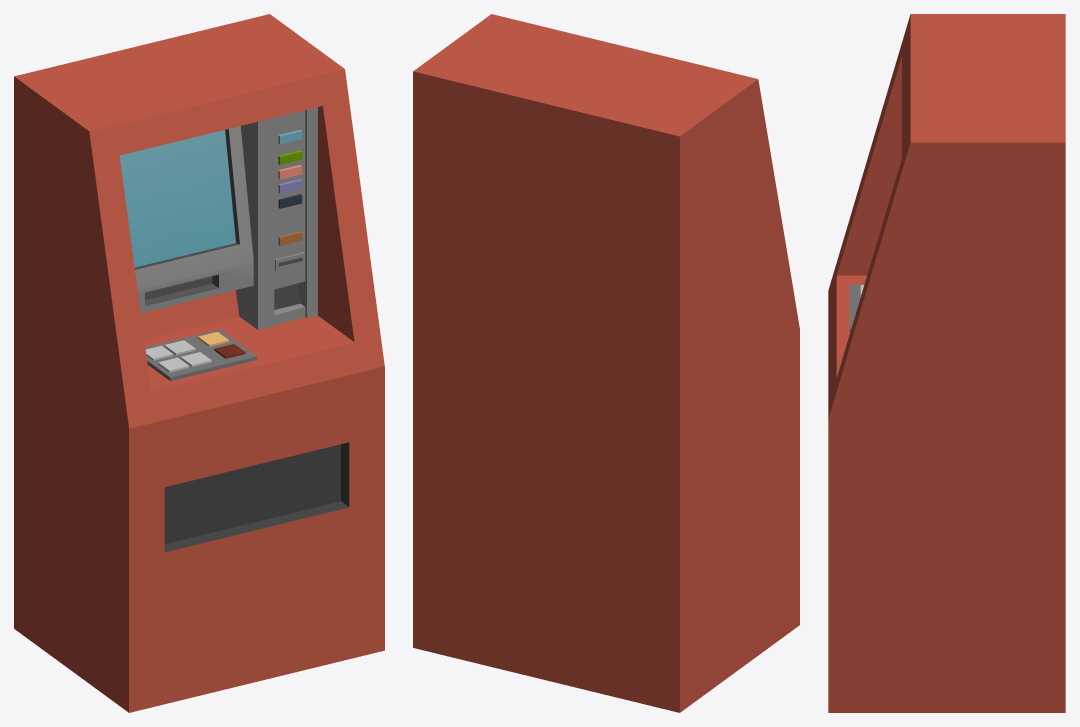
File: SM_Props_Bank_01.fbx
The picture shows the model from 3 angles, left to right: view 1: azimuth 30°, elevation 25°; view 2: azimuth 150°, elevation 25°; view 3: azimuth 270°, elevation 25°; orthographic projection. The views are drawn at different scales.
Parts seen in each view (by area): view 1: SM_Props_Bank_01; view 2: SM_Props_Bank_01; view 3: SM_Props_Bank_01.
Part boxes in pixels (x1=…): SM_Props_Bank_01: x1=14, y1=14, x2=384, y2=712; SM_Props_Bank_01: x1=413, y1=14, x2=799, y2=712; SM_Props_Bank_01: x1=828, y1=14, x2=1065, y2=712.
Bounding box in the file's own units: 0.8514 × 1.76 × 0.6632.
